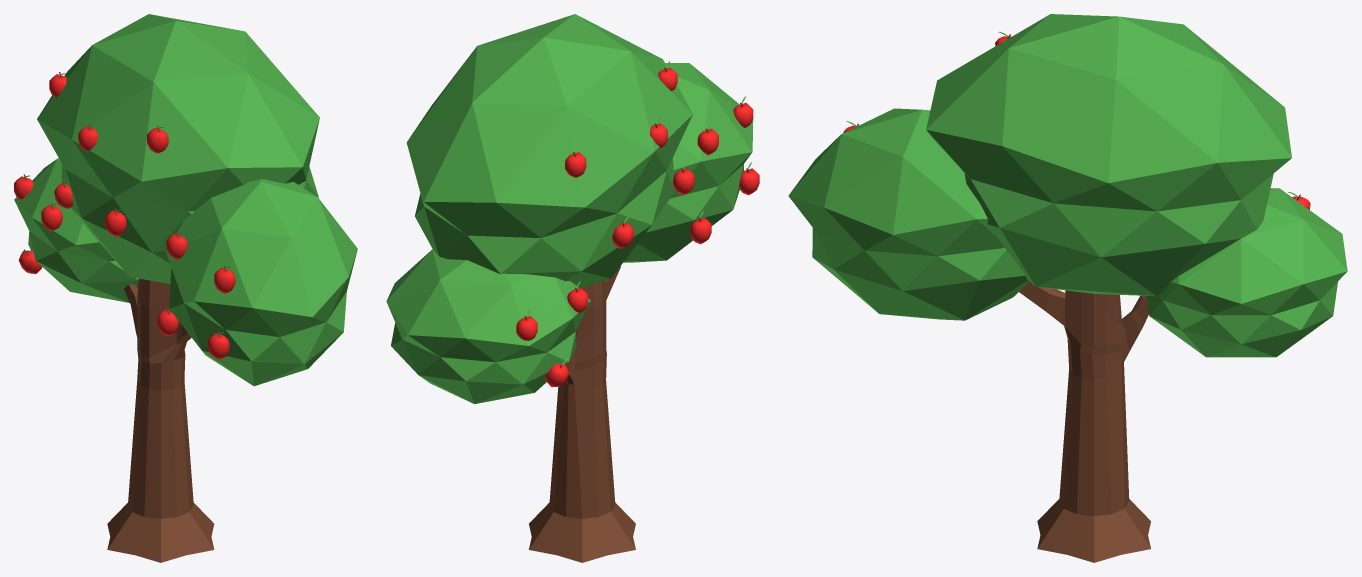
The model's file is Macieira.fbx.
3 views of the same model, side by side, from view 1: azimuth 30°, elevation 25°; view 2: azimuth 150°, elevation 25°; view 3: azimuth 270°, elevation 25° (orthographic). The views are drawn at different scales.
Visible parts, largest first — view 1: Macieira; view 2: Macieira; view 3: Macieira.
Part boxes in pixels (x1=…): Macieira: x1=14, y1=14, x2=357, y2=562; Macieira: x1=386, y1=14, x2=759, y2=562; Macieira: x1=788, y1=14, x2=1347, y2=562.
Size of the model in its own units: 293 by 622 by 592.
